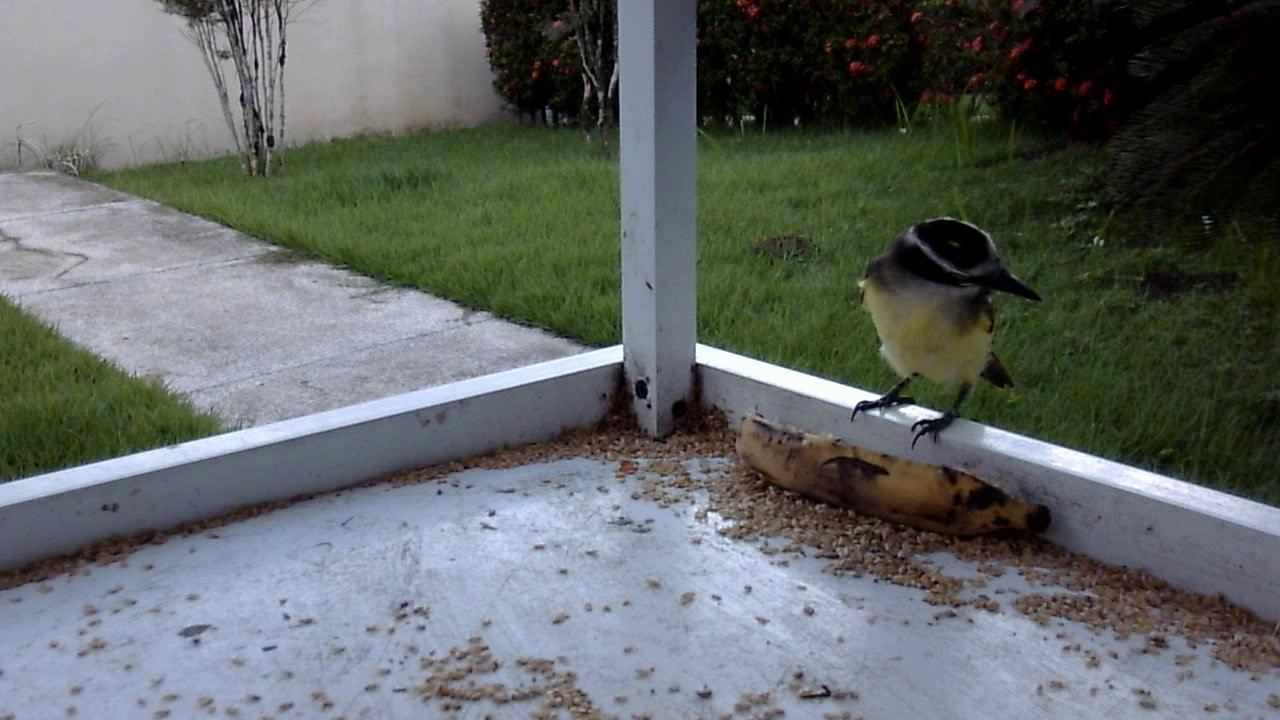bem_te_vi: (835, 207, 1047, 462)
